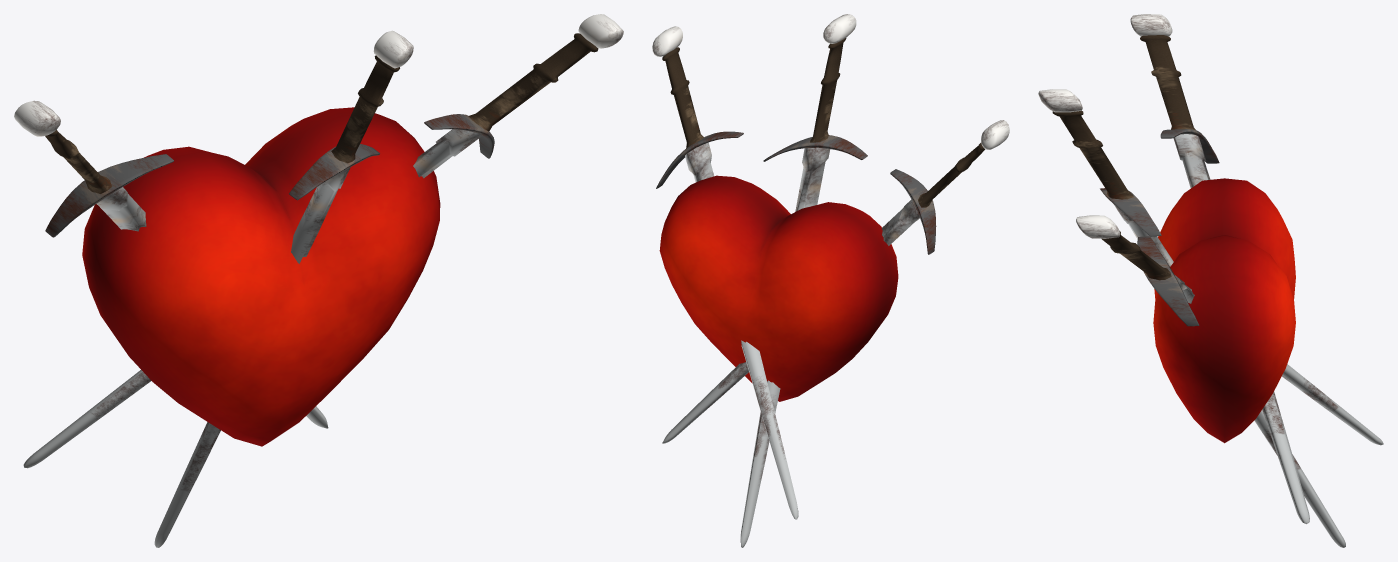
Rendered from heart.glb.
The picture shows the model from 3 angles, left to right: view 1: azimuth 30°, elevation 25°; view 2: azimuth 150°, elevation 25°; view 3: azimuth 270°, elevation 25°; orthographic projection. The views are drawn at different scales.
Visible parts, largest first — view 1: Object_2, Plane003__0.002, Plane003__0, Plane003__0.001; view 2: Object_2, Plane003__0.002, Plane003__0, Plane003__0.001; view 3: Object_2, Plane003__0.001, Plane003__0.002, Plane003__0.
Boxes of the visible parts, <box> form: Object_2: <box>82,107,440,446</box>; Plane003__0.002: <box>154,30,413,547</box>; Plane003__0: <box>23,14,623,468</box>; Plane003__0.001: <box>14,100,328,428</box>; Object_2: <box>659,175,898,401</box>; Plane003__0.002: <box>740,14,867,547</box>; Plane003__0: <box>652,26,798,519</box>; Plane003__0.001: <box>662,120,1009,443</box>; Object_2: <box>1153,178,1295,443</box>; Plane003__0.001: <box>1130,14,1309,523</box>; Plane003__0.002: <box>1038,89,1345,547</box>; Plane003__0: <box>1076,215,1383,445</box>.
Size of the model in its own units: 10.88 by 12.01 by 7.93.
4 materials, 4 textured.
